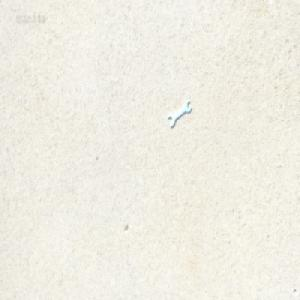Wrench: (166, 98, 188, 126)
